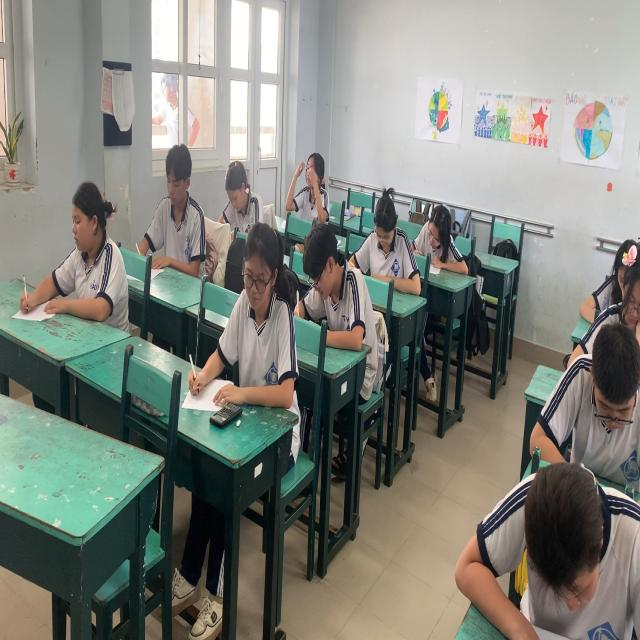not_cheating: (62, 176, 126, 328), (237, 213, 293, 369), (294, 210, 368, 321), (153, 142, 208, 286), (355, 180, 414, 286), (416, 204, 470, 272), (295, 144, 336, 224), (218, 152, 260, 224)
